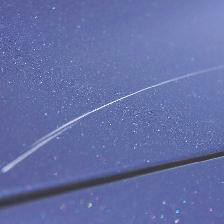door_scratch: (7, 66, 223, 177)
